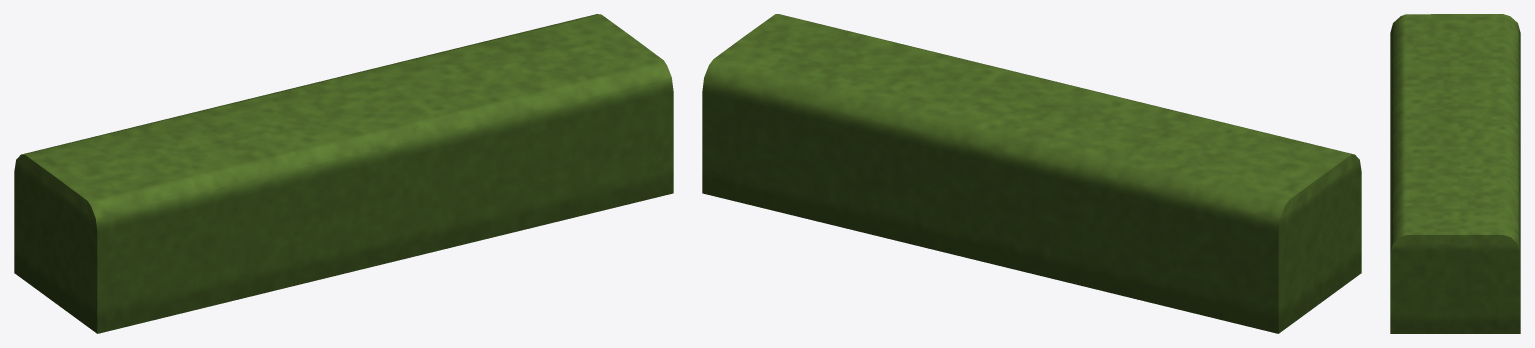
Rendered from hang_rao_cong_vien.mid.glb.
The picture shows the model from 3 angles, left to right: view 1: azimuth 30°, elevation 25°; view 2: azimuth 150°, elevation 25°; view 3: azimuth 270°, elevation 25°; orthographic projection. The views are drawn at different scales.
Parts seen in each view (by area): view 1: hang_rao_cong_vien; view 2: hang_rao_cong_vien; view 3: hang_rao_cong_vien.
Boxes of the visible parts, box(x1,y1,x2,y2) form: hang_rao_cong_vien: box(14, 14, 673, 333); hang_rao_cong_vien: box(702, 14, 1361, 333); hang_rao_cong_vien: box(1390, 14, 1520, 333).
Size of the model in its own units: 2 by 0.4187 by 0.5.
Materials: 1 (1 with a texture image).
